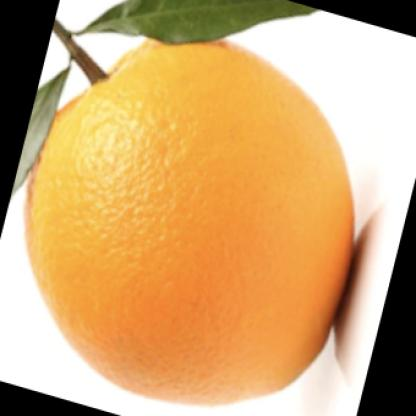fresh: (28, 39, 357, 400)
